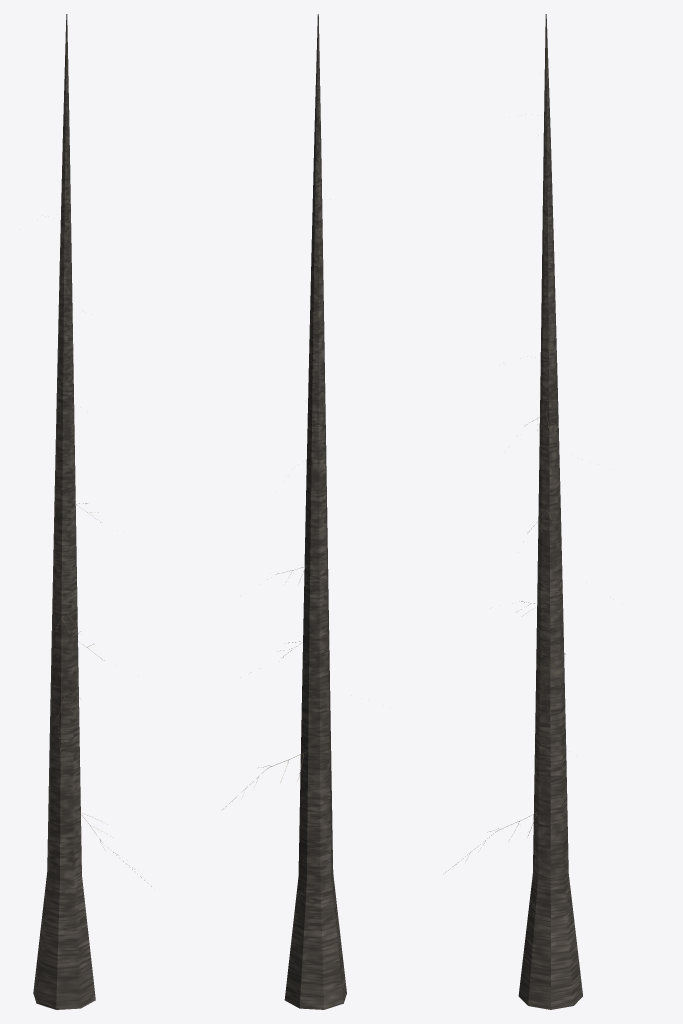
File: SM_snag.fbx
3 renders of one model, left to right at view 1: azimuth 30°, elevation 25°; view 2: azimuth 150°, elevation 25°; view 3: azimuth 270°, elevation 25°, orthographic.
Visible parts, largest first — view 1: SM_snag; view 2: SM_snag; view 3: SM_snag.
Boxes of the visible parts, box(x1,y1,x2,y2) form: SM_snag: box(33, 14, 151, 1009); SM_snag: box(221, 14, 346, 1009); SM_snag: box(445, 14, 582, 1009).
Size of the model in its own units: 3.13 by 22 by 4.84.
